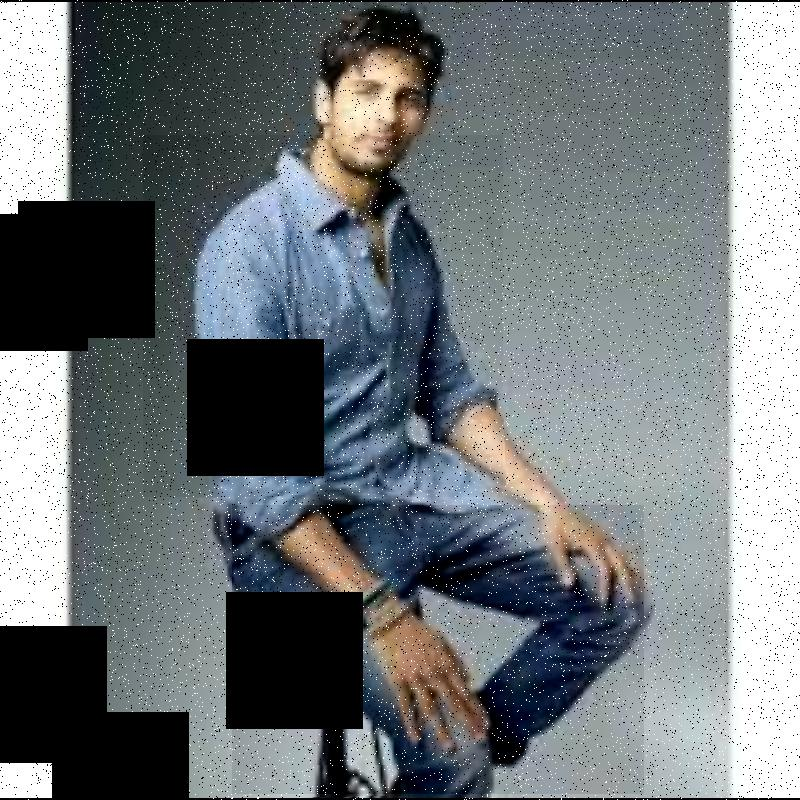Pant: (233, 506, 644, 794)
Shirt: (143, 135, 503, 497)
